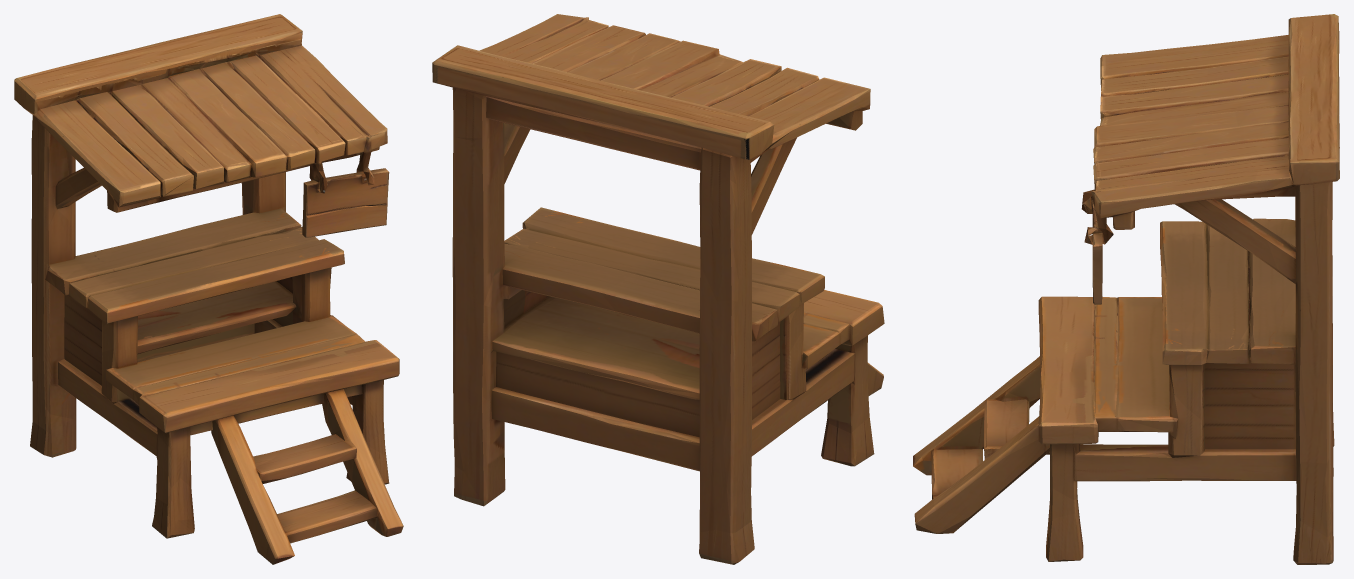
Rendered from Wooden_Market_Stall_0617034709_texture.fbx.
3 renders of one model, left to right at view 1: azimuth 30°, elevation 25°; view 2: azimuth 150°, elevation 25°; view 3: azimuth 270°, elevation 25°, orthographic. The views are drawn at different scales.
Parts seen in each view (by area): view 1: temp; view 2: temp; view 3: temp.
Boxes of the visible parts, box(x1,y1,x2,y2) form: temp: box(14, 14, 403, 564); temp: box(432, 14, 884, 564); temp: box(913, 14, 1339, 564).
Bounding box in the file's own units: 150 × 199 × 185.
1 material, 1 textured.
